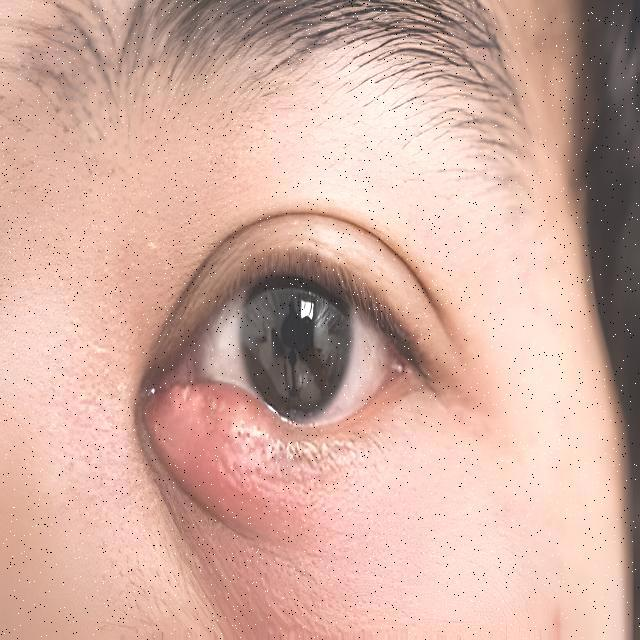Stye: (146, 342, 334, 496)
